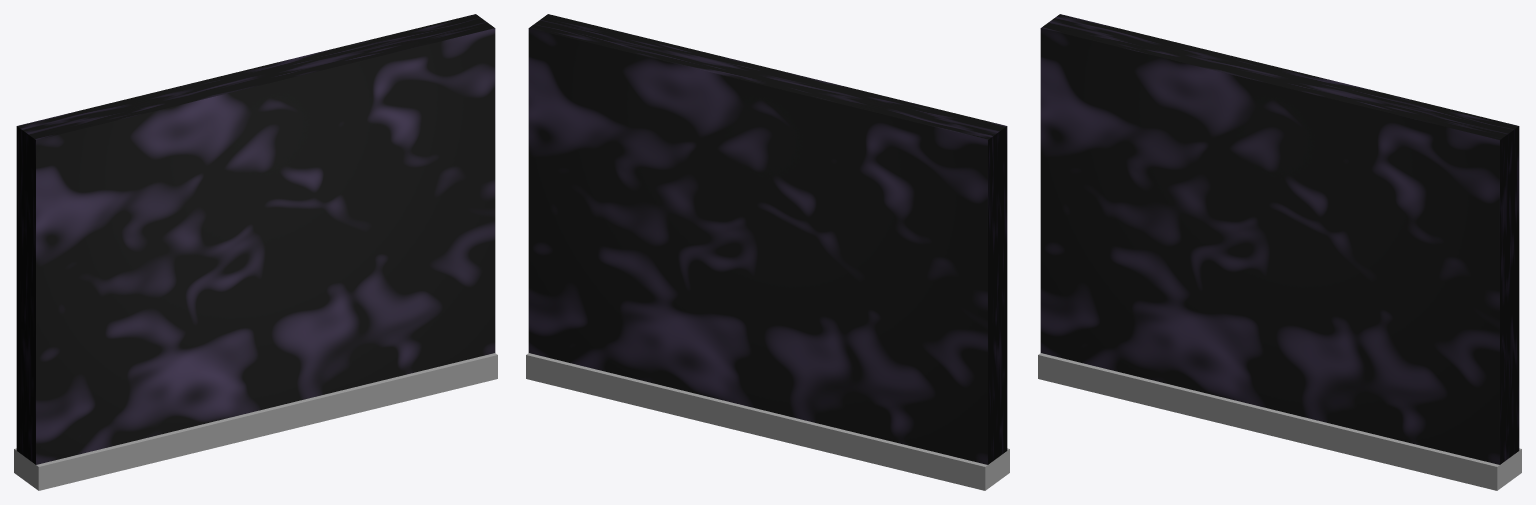
The model's file is Pared1.fbx.
3 renders of one model, left to right at view 1: azimuth 30°, elevation 25°; view 2: azimuth 150°, elevation 25°; view 3: azimuth 330°, elevation 25°, orthographic.
Visible parts, largest first — view 1: Pared.001; view 2: Pared.001; view 3: Pared.001.
Part boxes in pixels (x1=…): Pared.001: x1=14, y1=14, x2=497, y2=490; Pared.001: x1=526, y1=14, x2=1009, y2=490; Pared.001: x1=1038, y1=14, x2=1521, y2=490.
Size of the model in its own units: 577 by 419 by 53.71.
